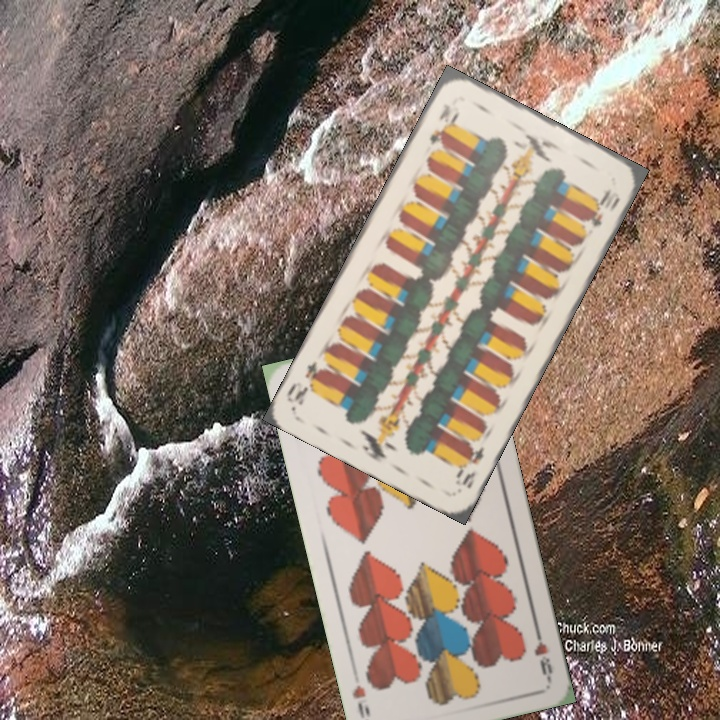E10: (451, 440, 487, 491), (425, 99, 460, 148)
H9: (530, 623, 555, 682)
